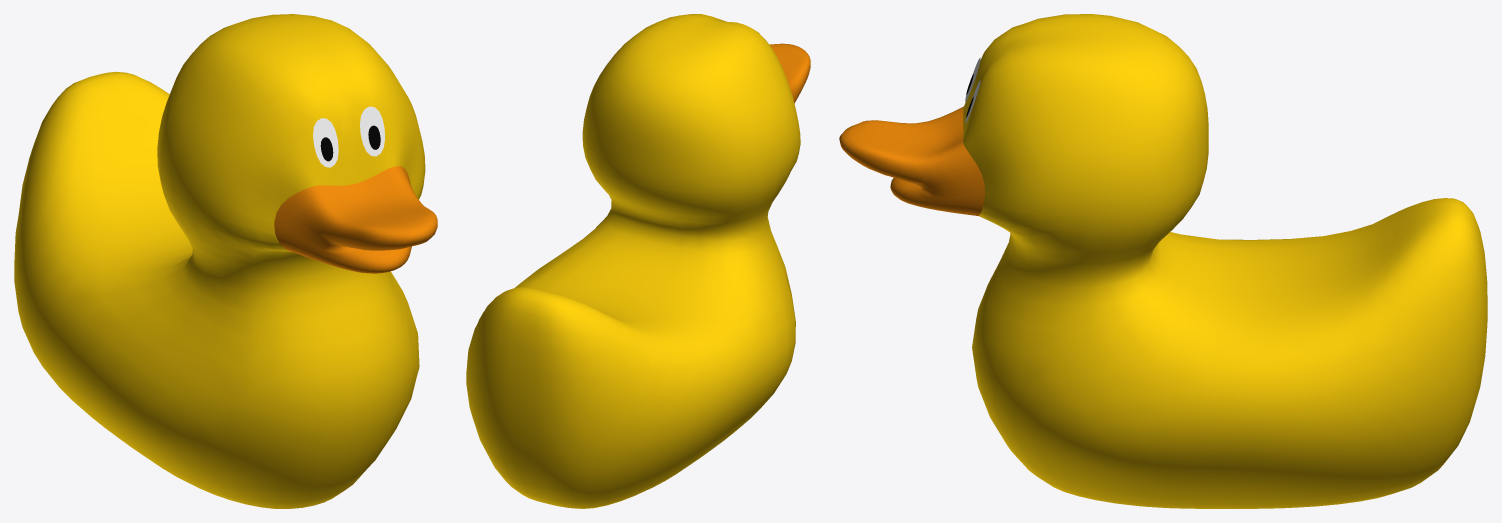
File: pato_borracha.fbx
The picture shows the model from 3 angles, left to right: view 1: azimuth 30°, elevation 25°; view 2: azimuth 150°, elevation 25°; view 3: azimuth 270°, elevation 25°; orthographic projection. The views are drawn at different scales.
Visible parts, largest first — view 1: Rubber_Duck; view 2: Rubber_Duck; view 3: Rubber_Duck.
Boxes of the visible parts, bbox=[...] form: Rubber_Duck: bbox=[14, 14, 437, 508]; Rubber_Duck: bbox=[466, 14, 810, 508]; Rubber_Duck: bbox=[839, 14, 1487, 508].
Bounding box in the file's own units: 12.88 × 18.88 × 24.65.
